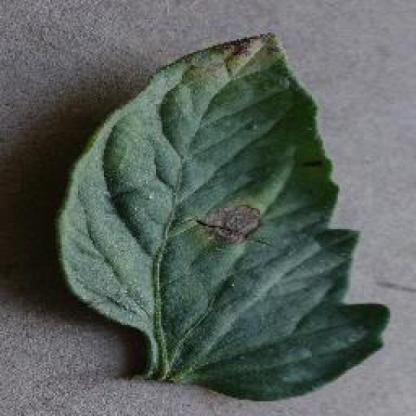Tomato_Blight: (58, 34, 389, 395)
